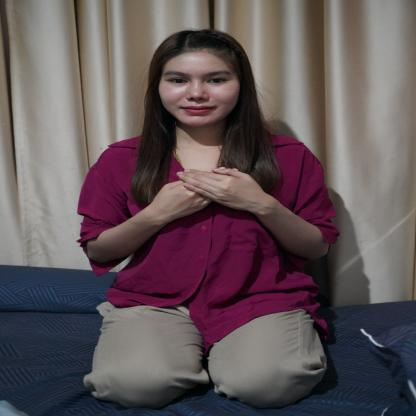Grieve: (134, 162, 287, 230)
